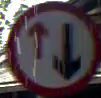Two way: (8, 3, 98, 94)
